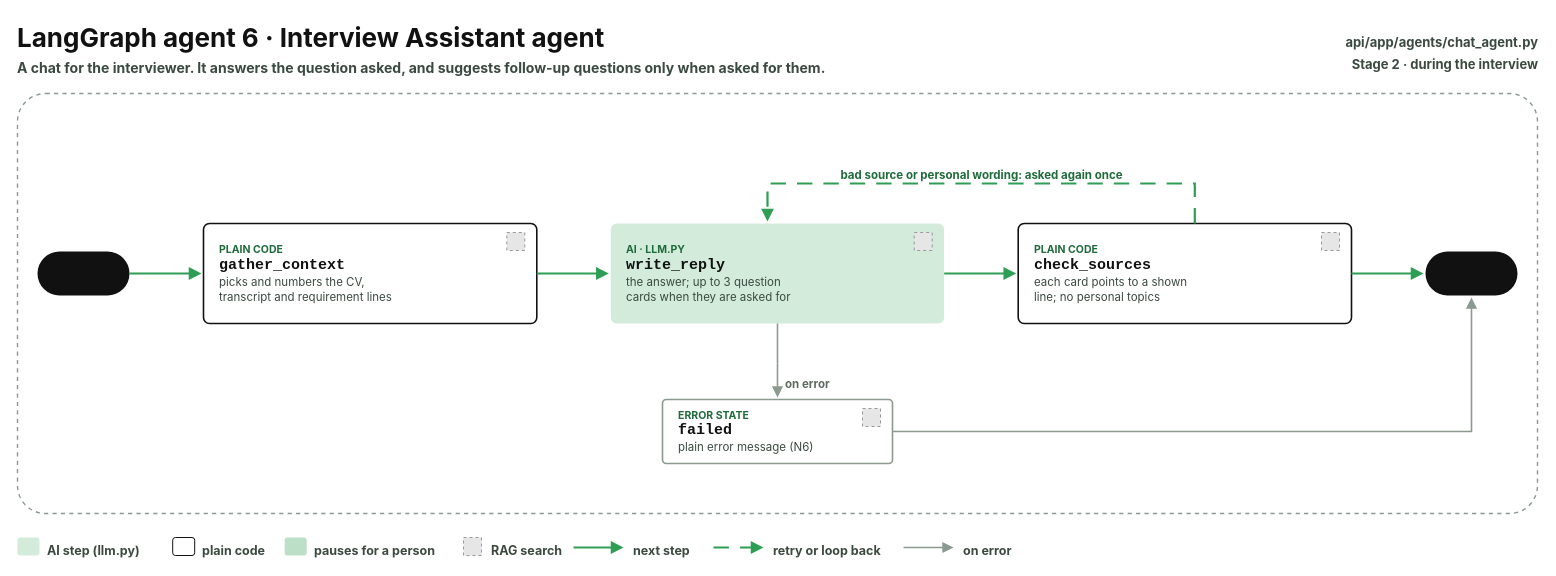
The diagram is 1556 pixels wide and 576 high, and some of its shapes have lost their labels. Grey dashed boxes stand in for pictures. Each missing label, with the centre of its shape:
END: the point at 1471,273
START: the point at 83,273
